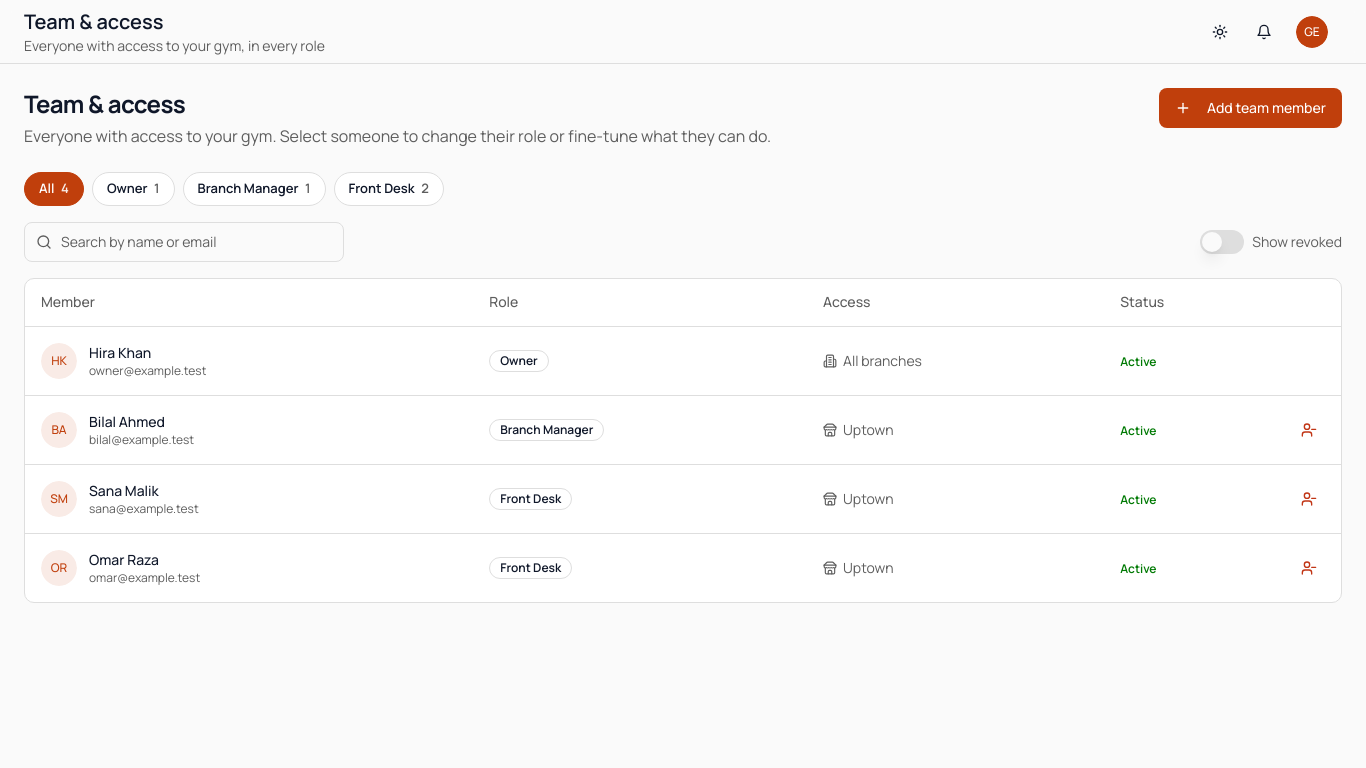
Test: TeamPage (UX-12) › lists the team from GET /team and filters by role chip and search
Check: the text "Sana Malik" is shown, box [89,481,159,500]
Check: the number of rows is 5, box [25,278,1341,326]; [25,326,1341,396]; [25,396,1341,464]; [25,464,1341,534]; [25,534,1341,602]
Click the button "Front Desk 2": (389, 189) [334,172,444,206]
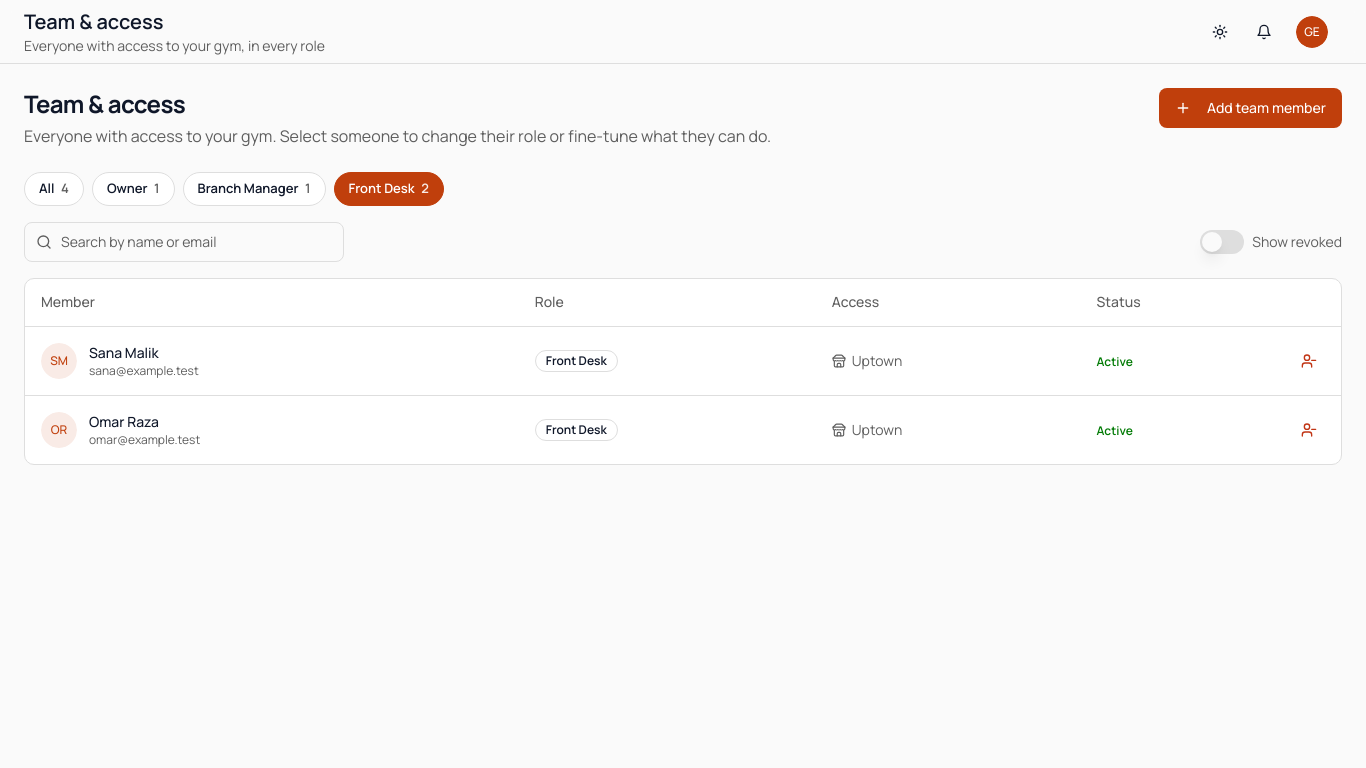
Check: the number of rows is 3, box [25,278,1341,326]; [25,326,1341,396]; [25,396,1341,464]
Check: the text "Bilal Ahmed" is gone
In the field named "Search team": (184, 242) [24,222,344,262], type "omar"
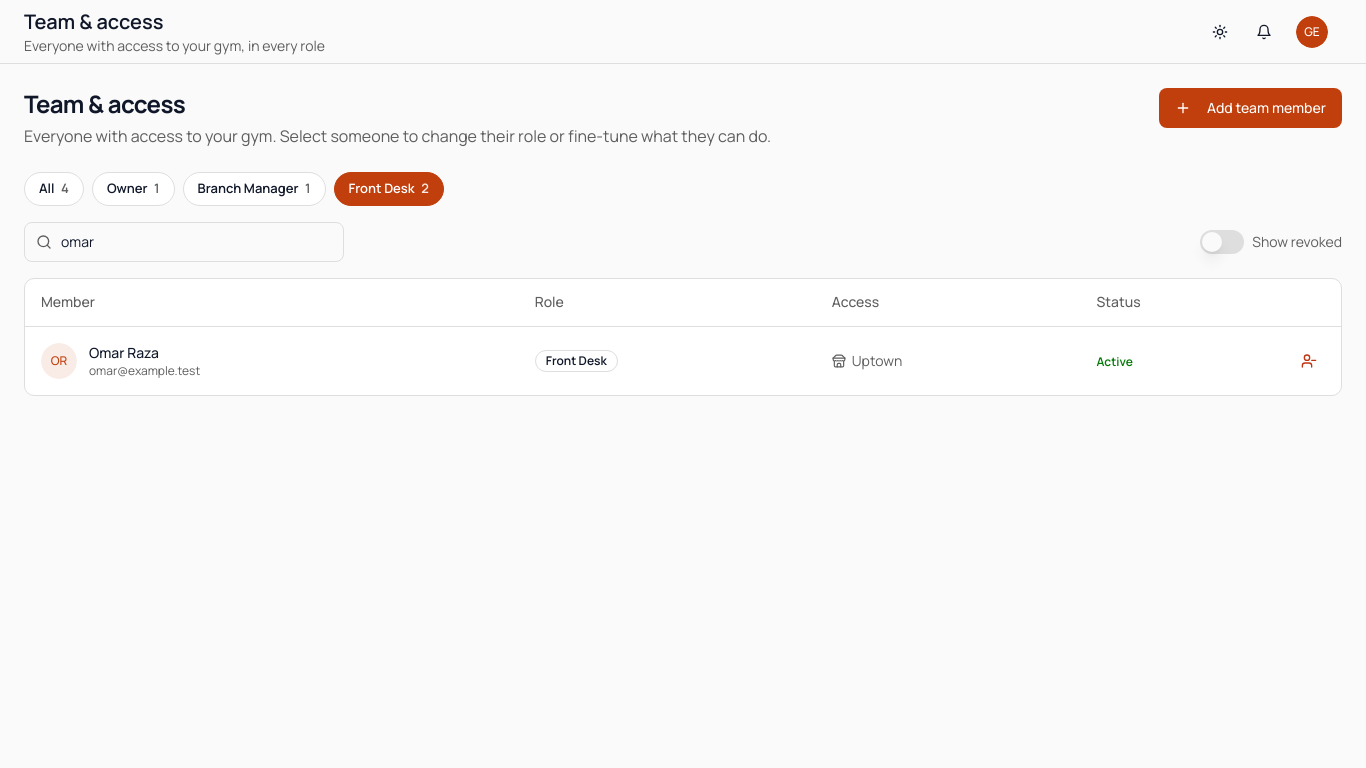
Check: the text "Omar Raza" is shown, box [89,343,159,362]
Check: the number of rows is 2, box [25,278,1341,326]; [25,326,1341,395]
